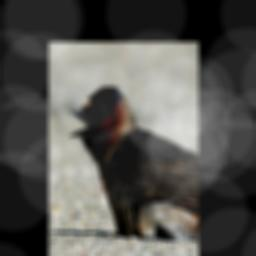Swallow: (67, 85, 198, 244)
